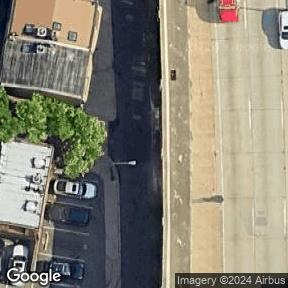vegetation: (0, 80, 114, 184)
